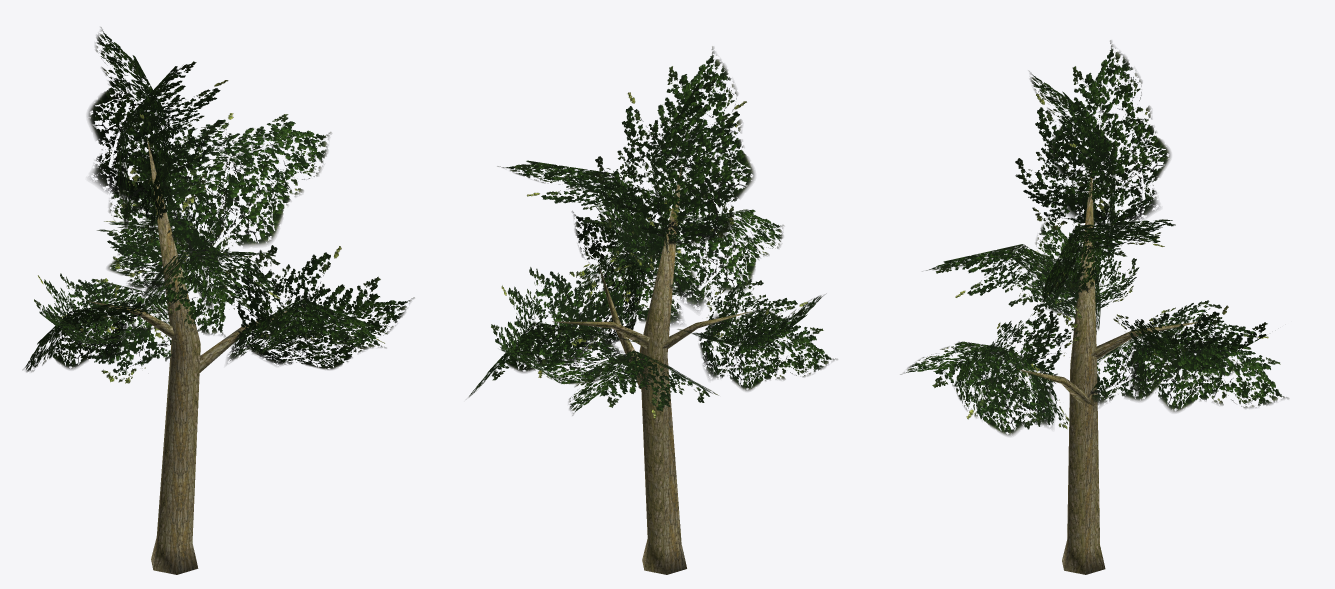
Rendered from tree-broadleaf-short.glb.
3 renders of one model, left to right at view 1: azimuth 30°, elevation 25°; view 2: azimuth 150°, elevation 25°; view 3: azimuth 270°, elevation 25°, orthographic. The views are drawn at different scales.
Visible parts, largest first — view 1: Tree_6; view 2: Tree_6; view 3: Tree_6.
Part boxes in pixels (x1=…): Tree_6: x1=23, y1=27, x2=414, y2=574; Tree_6: x1=468, y1=46, x2=837, y2=574; Tree_6: x1=900, y1=40, x2=1289, y2=574.
Size of the model in its own units: 5.47 by 8.09 by 6.06.
2 materials, 2 textured.
